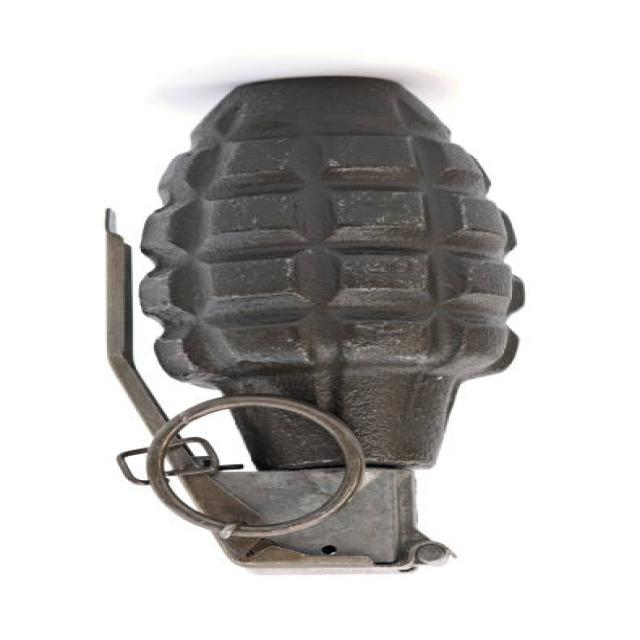grenade: (91, 69, 541, 582)
